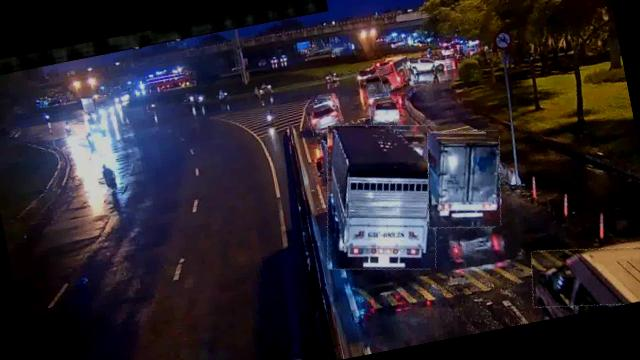Bike: (96, 160, 118, 194)
Bus: (526, 232, 640, 320), (377, 57, 417, 90)
Car: (303, 95, 344, 134), (368, 96, 402, 128), (407, 54, 436, 74)
Truck: (308, 110, 456, 282), (416, 122, 513, 236), (358, 72, 394, 109)
